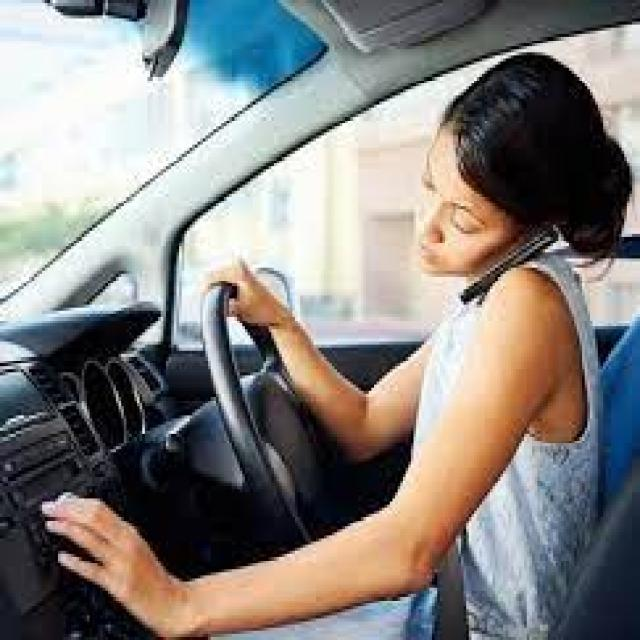Cellphone_calling: (437, 206, 566, 329)
